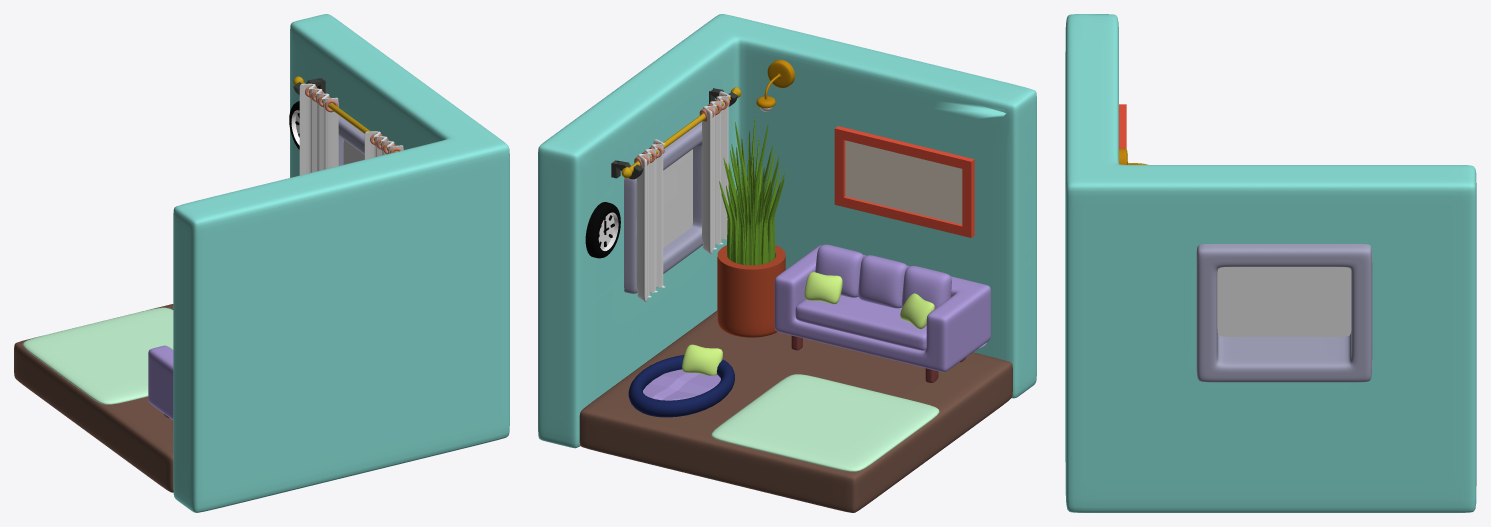
The model's file is LivingRoomWithTextures.fbx.
3 renders of one model, left to right at view 1: azimuth 30°, elevation 25°; view 2: azimuth 150°, elevation 25°; view 3: azimuth 270°, elevation 25°, orthographic. The views are drawn at different scales.
Visible parts, largest first — view 1: Walls, Rug, Floor, Curtain, Couch, Window, Curtain.001; view 2: Walls, Floor, Rug, Couch, Frame, Window, Plant, Pot, Curtain, Curtain.001, Pet bed, Cushion.001 (+9 smaller); view 3: Walls, Window.
Part boxes in pixels (<box>): Walls: <box>173,14,509,512</box>; Rug: <box>22,307,173,404</box>; Floor: <box>14,304,173,492</box>; Curtain: <box>299,83,338,175</box>; Couch: <box>148,345,173,420</box>; Window: <box>338,115,364,165</box>; Curtain.001: <box>364,131,403,159</box>; Walls: <box>538,14,1036,448</box>; Floor: <box>579,310,1012,512</box>; Rug: <box>711,374,939,471</box>; Couch: <box>774,245,990,372</box>; Frame: <box>834,126,974,237</box>; Window: <box>624,121,703,293</box>; Plant: <box>719,117,784,265</box>; Pot: <box>717,245,785,337</box>; Curtain: <box>636,139,665,301</box>; Curtain.001: <box>702,91,730,254</box>; Pet bed: <box>628,355,734,417</box>; Cushion.001: <box>858,255,907,308</box>; Walls: <box>1065,14,1476,512</box>; Window: <box>1196,244,1372,382</box>.
Bounding box in the file's own units: 363 × 311 × 351.
